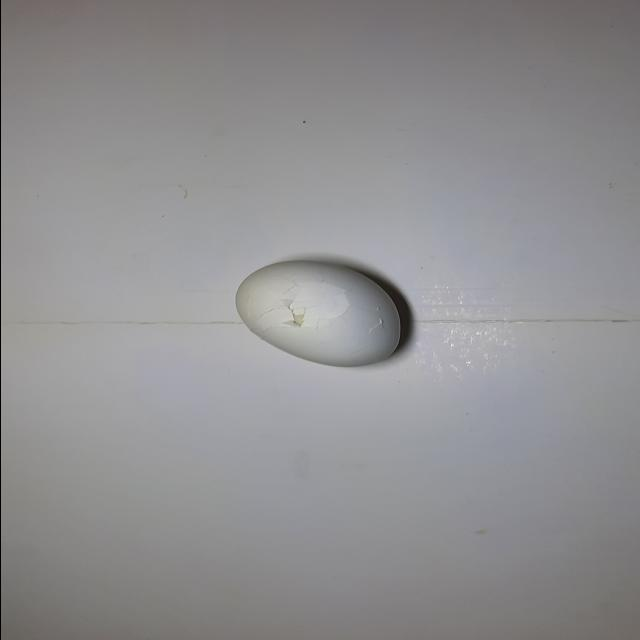egg shell: (228, 258, 408, 369)
